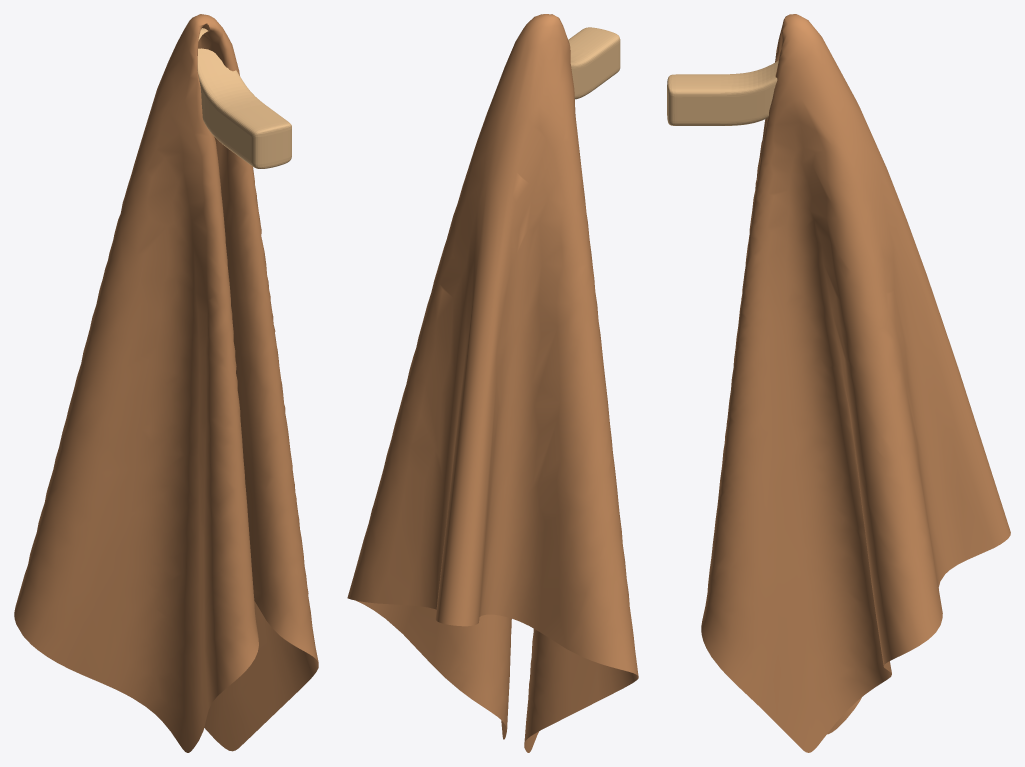
Rendered from Toalla.fbx.
The picture shows the model from 3 angles, left to right: view 1: azimuth 30°, elevation 25°; view 2: azimuth 150°, elevation 25°; view 3: azimuth 270°, elevation 25°; orthographic projection. The views are drawn at different scales.
Parts seen in each view (by area): view 1: Plane, Gancho .001; view 2: Plane, Gancho .001; view 3: Plane, Gancho .001.
Boxes of the visible parts, bbox=[...] form: Plane: bbox=[14, 14, 318, 752]; Gancho .001: bbox=[197, 28, 291, 168]; Plane: bbox=[347, 14, 638, 752]; Gancho .001: bbox=[568, 27, 620, 99]; Plane: bbox=[701, 14, 1010, 752]; Gancho .001: bbox=[667, 60, 778, 125].
Size of the model in its own units: 3.79 by 9.71 by 4.21.
